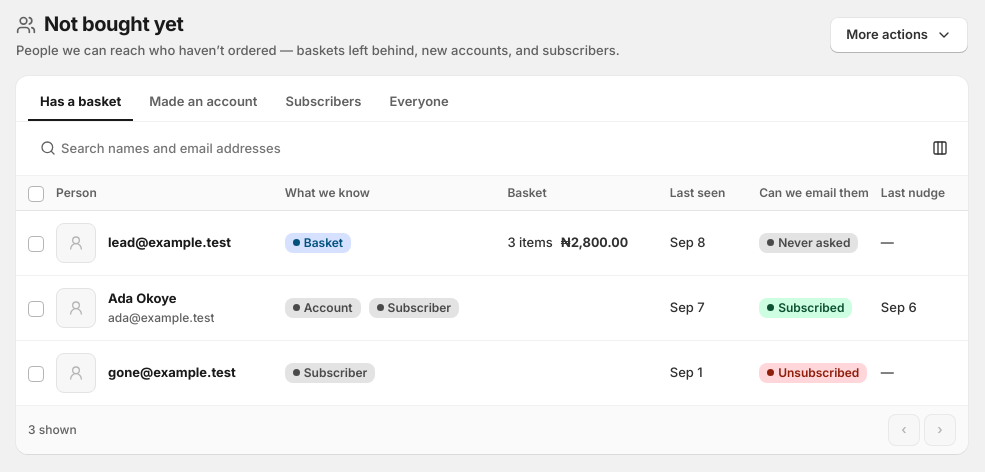
Test: the not-bought-yet list › sends the search to the server rather than filtering the page it has
Expected: the text "lead@example.test" is shown, [108,233,231,252]
Type "ada" into the search field at (472, 148), box [28,130,916,166]
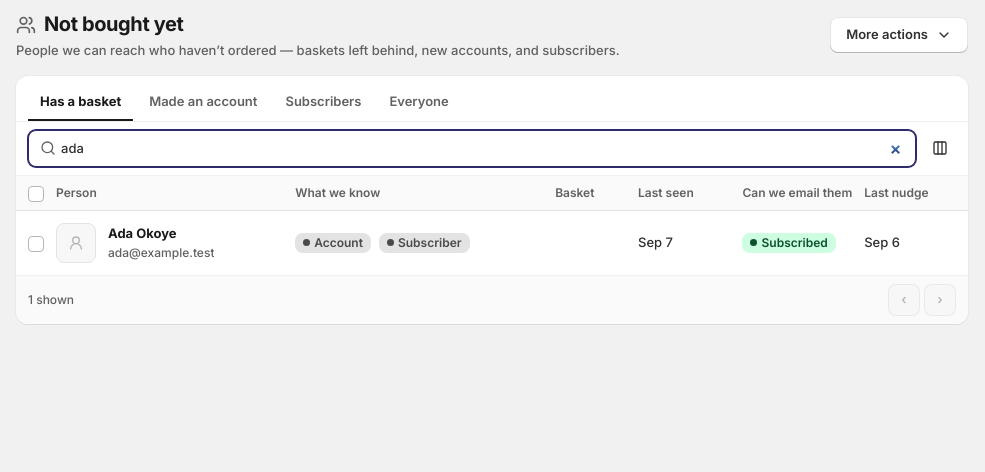
Now the text "lead@example.test" is gone
